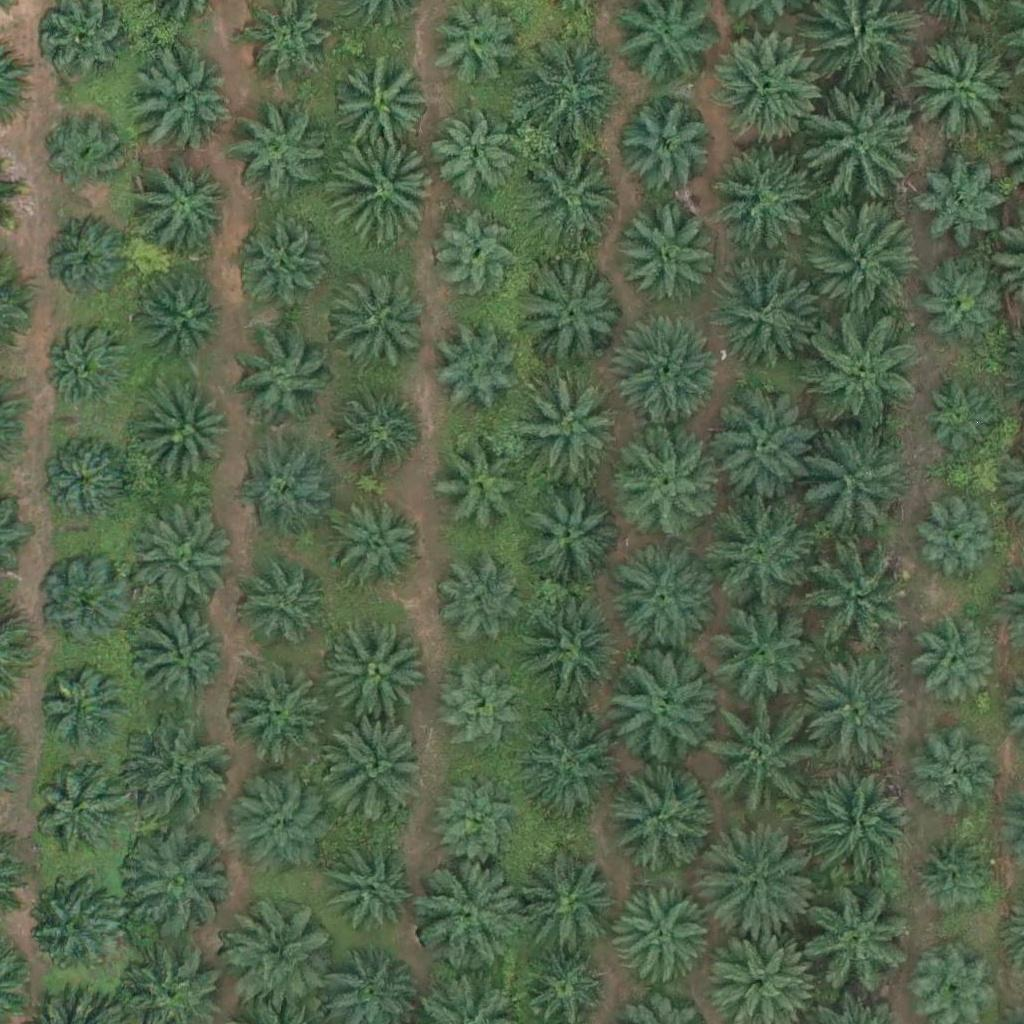Kelapa_Sawit: (705, 831, 818, 945), (711, 254, 824, 368), (803, 653, 916, 766), (799, 772, 912, 885), (792, 888, 905, 1001), (599, 657, 712, 770), (219, 767, 332, 880), (219, 886, 332, 999), (116, 827, 229, 940), (810, 209, 923, 322), (704, 390, 817, 503), (711, 144, 824, 257), (610, 316, 723, 429), (516, 378, 629, 491), (514, 136, 627, 249), (515, 36, 628, 149), (410, 860, 522, 974), (220, 660, 332, 774), (805, 314, 917, 428), (514, 592, 626, 706), (325, 135, 437, 249), (129, 501, 241, 615), (712, 701, 824, 814), (597, 762, 709, 875), (515, 710, 627, 823), (512, 850, 624, 963), (323, 713, 435, 826), (123, 710, 235, 823), (906, 32, 1018, 145), (807, 92, 919, 205), (796, 424, 908, 537), (801, 534, 913, 647), (703, 589, 815, 702), (702, 498, 814, 611), (710, 28, 822, 141), (609, 545, 721, 658), (318, 614, 430, 727), (611, 888, 711, 989), (325, 832, 425, 933), (22, 878, 122, 979), (913, 154, 1013, 255), (613, 99, 713, 200), (621, 203, 721, 304), (617, 440, 717, 541), (513, 484, 613, 585), (524, 267, 624, 368), (323, 492, 423, 593), (336, 59, 436, 160), (228, 107, 328, 208), (230, 217, 330, 318), (235, 561, 335, 662), (135, 153, 235, 254), (35, 553, 135, 654), (324, 270, 424, 370), (233, 327, 333, 427), (233, 451, 333, 551), (137, 50, 237, 150), (138, 387, 238, 487), (131, 608, 231, 708), (36, 432, 136, 532), (433, 776, 521, 864), (33, 765, 121, 853), (427, 3, 515, 91), (431, 115, 519, 203), (436, 441, 524, 529), (441, 561, 529, 649), (329, 386, 417, 474), (250, 4, 338, 92), (137, 270, 225, 358), (36, 662, 124, 750), (42, 109, 130, 197), (43, 221, 131, 309), (43, 326, 131, 414), (911, 832, 998, 920), (911, 727, 998, 815), (914, 615, 1001, 703), (914, 491, 1001, 579), (925, 258, 1012, 346), (433, 212, 520, 300), (434, 331, 521, 419), (436, 666, 523, 754), (923, 381, 998, 457)
